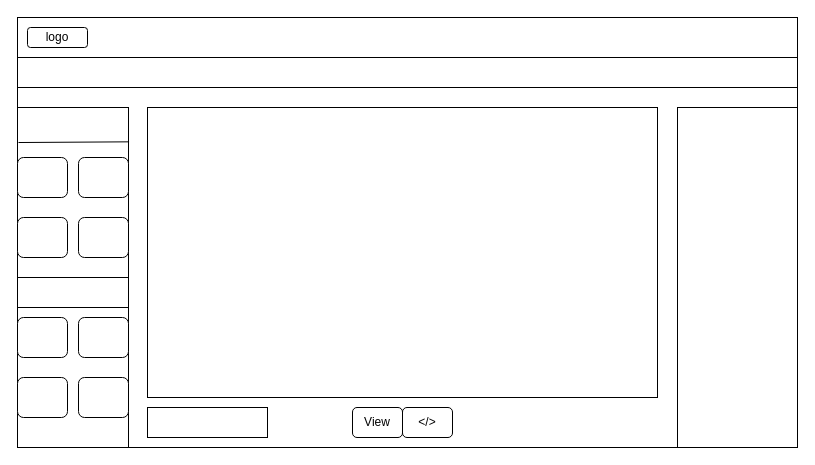
This 815x465 diagram has some shape labels left out. The box of each missing label's shape, as (x1, y1, x2, y2) in pixels:
dynamic props 1 row - 2 props: (676, 106, 798, 448)
Save / Zoom / Redo / Undo / Remove: (16, 56, 798, 88)
